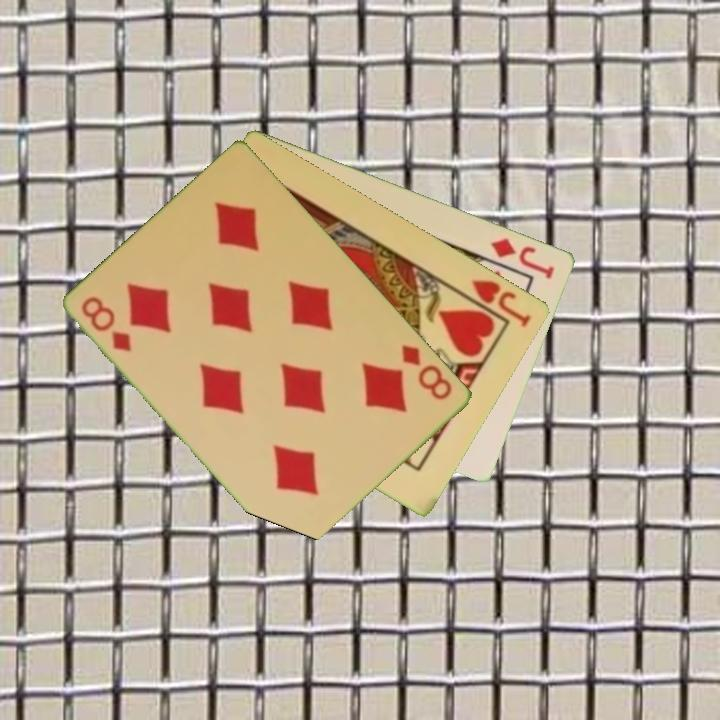8d: (398, 340, 456, 403), (78, 292, 135, 355)
Jd: (488, 234, 558, 282)
Jh: (454, 276, 534, 331)
